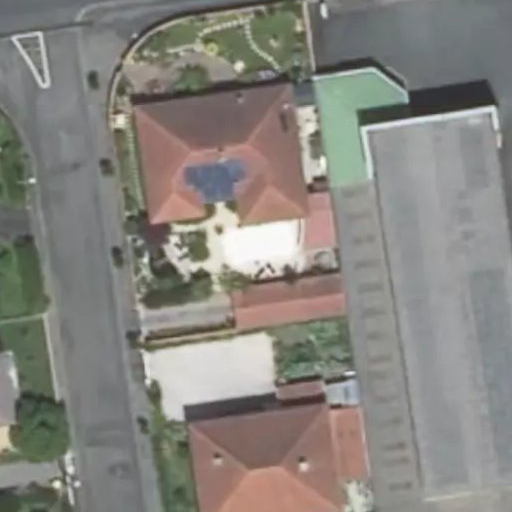pool: (221, 230, 291, 253)
